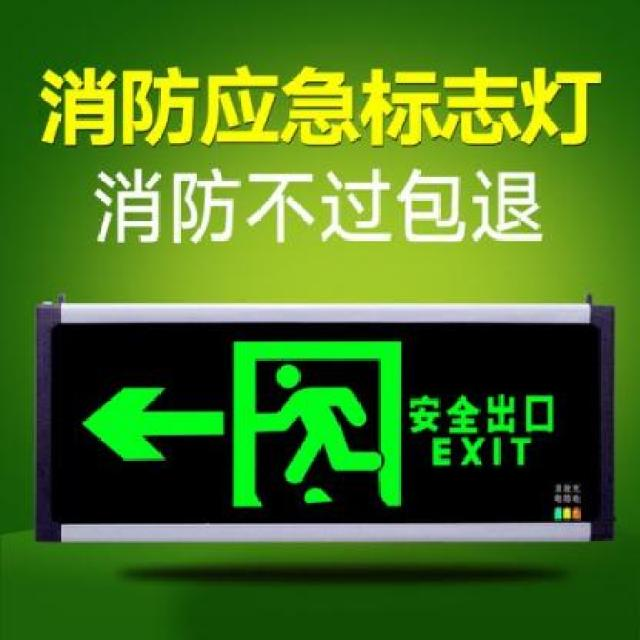exit_sign: (45, 315, 596, 537)
